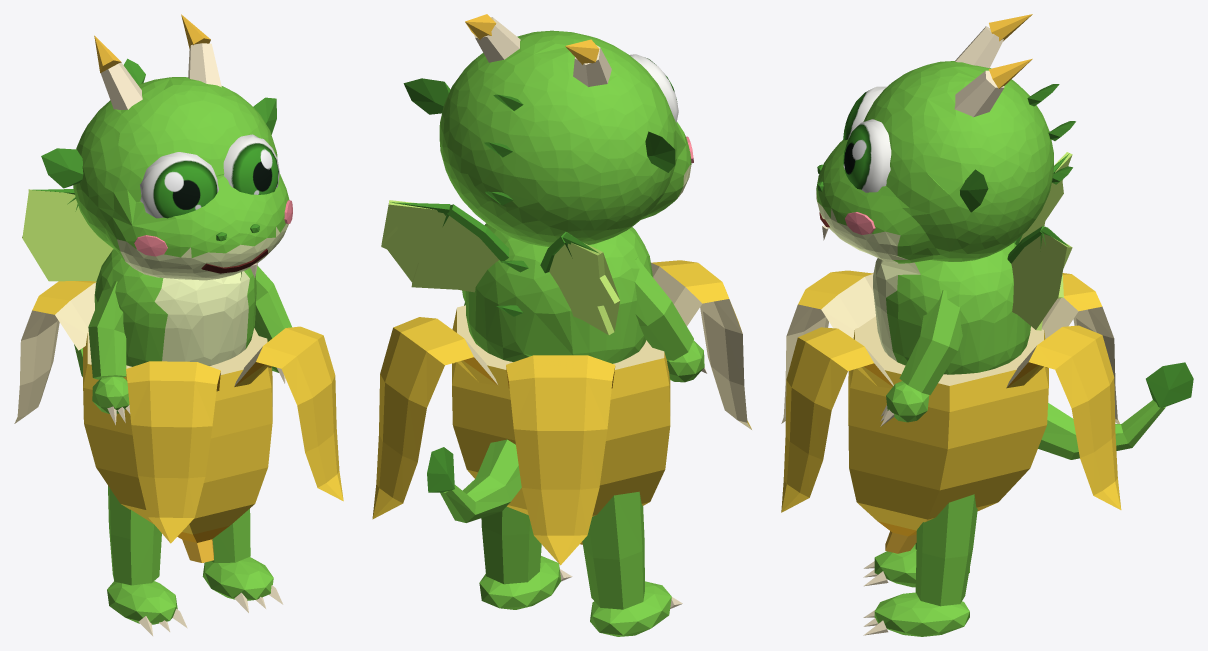
File: skin_bananini.glb
3 renders of one model, left to right at view 1: azimuth 30°, elevation 25°; view 2: azimuth 150°, elevation 25°; view 3: azimuth 270°, elevation 25°, orthographic. The views are drawn at different scales.
Parts seen in each view (by area): view 1: body, head, leg_L, arm_L, leg_R, arm_R; view 2: body, head, leg_L, leg_R, tail, arm_L; view 3: body, head, leg_R, arm_R, tail, leg_L.
Boxes of the visible parts, box(x1,y1,x2,y2) form: body: box(14, 189, 343, 562); head: box(41, 14, 292, 280); leg_L: box(107, 486, 187, 636); arm_L: box(88, 281, 130, 425); leg_R: box(202, 509, 283, 612); arm_R: box(254, 266, 291, 383); body: box(372, 200, 751, 565); head: box(403, 14, 693, 246); leg_L: box(582, 491, 682, 636); leg_R: box(479, 506, 572, 609); tail: box(427, 439, 521, 522); arm_L: box(634, 258, 706, 382); body: box(781, 152, 1121, 553); head: box(816, 14, 1075, 263); leg_R: box(863, 494, 977, 636); arm_R: box(880, 290, 962, 426); tail: box(1038, 362, 1193, 459); leg_L: box(863, 543, 969, 587).
Bounding box in the file's own units: 3.15 × 6.92 × 4.53.
14 materials, 1 textured.
